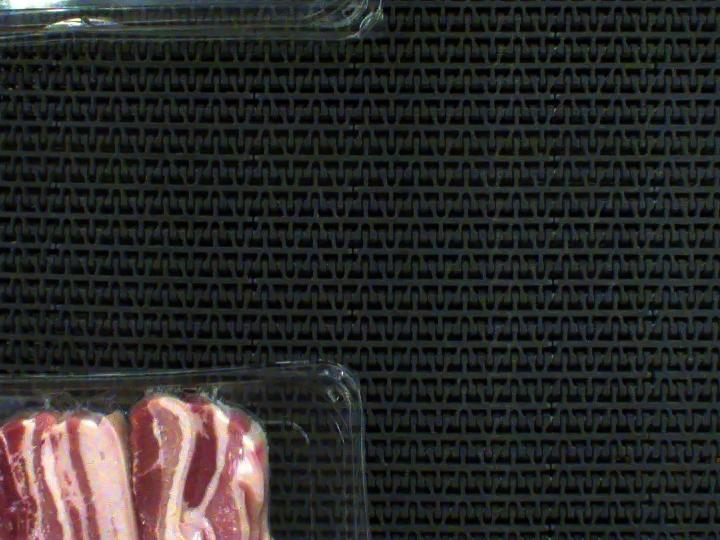packaging-error: (0, 358, 246, 415)
